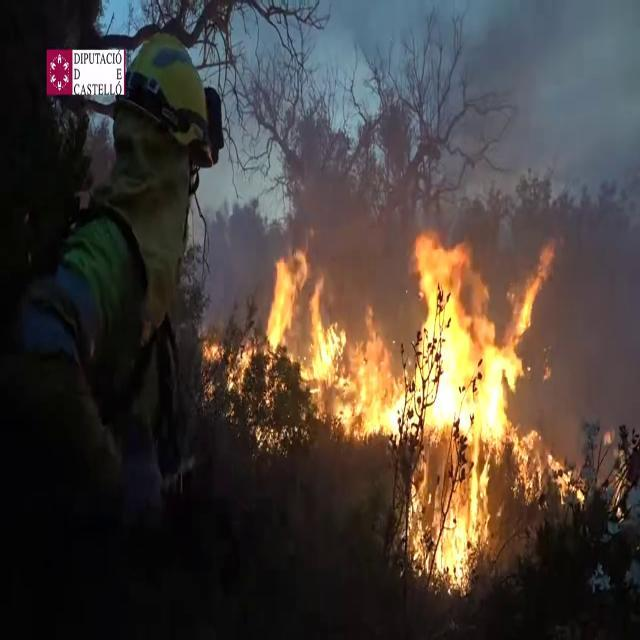Fire: (208, 228, 572, 546)
